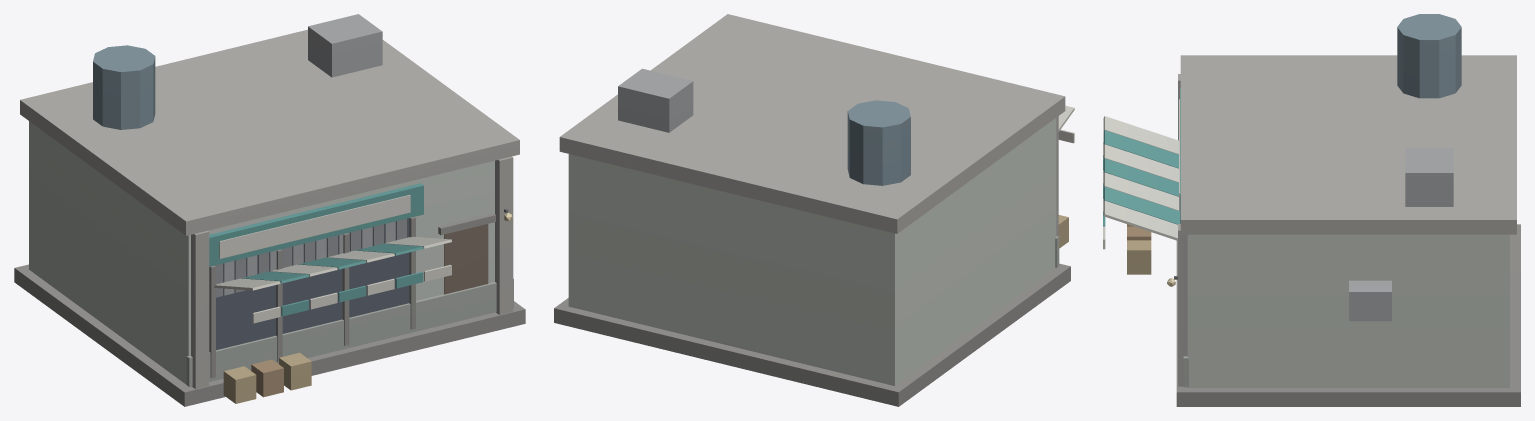
File: sv_shop_b.glb
3 views of the same model, side by side, from view 1: azimuth 30°, elevation 25°; view 2: azimuth 150°, elevation 25°; view 3: azimuth 270°, elevation 25° (orthographic).
Visible parts, largest first — view 1: sv_shop_b; view 2: sv_shop_b; view 3: sv_shop_b.
Part boxes in pixels (x1,y1,x2,y2): sv_shop_b: (14, 14, 525, 406); sv_shop_b: (554, 14, 1074, 406); sv_shop_b: (1103, 14, 1520, 406).
Bounding box in the file's own units: 7.7 × 5 × 7.77.
